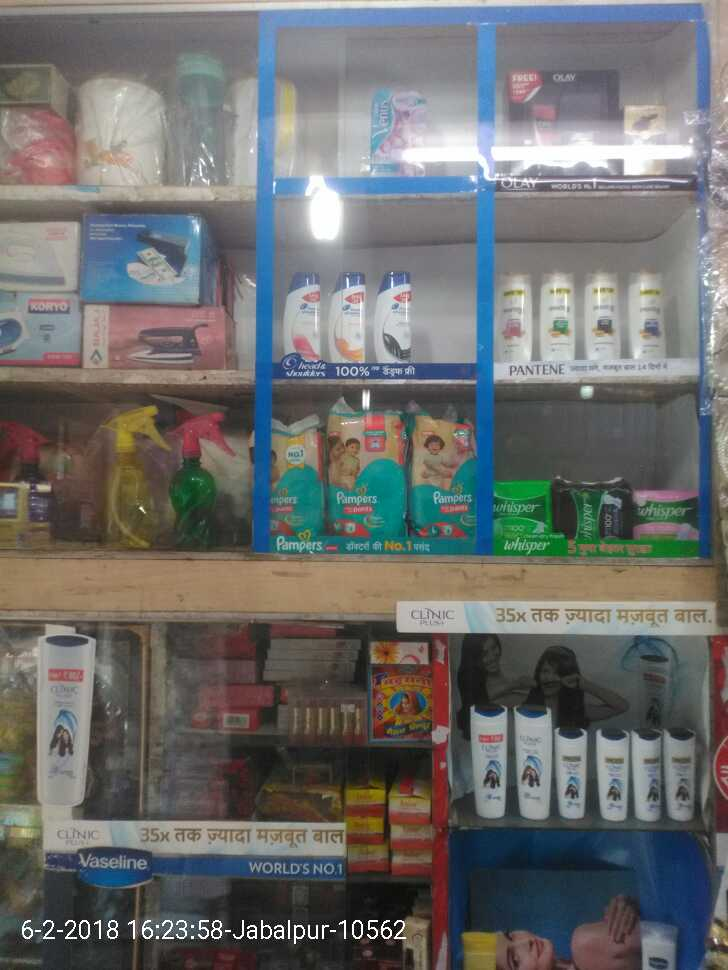venus: (370, 88, 424, 173)
